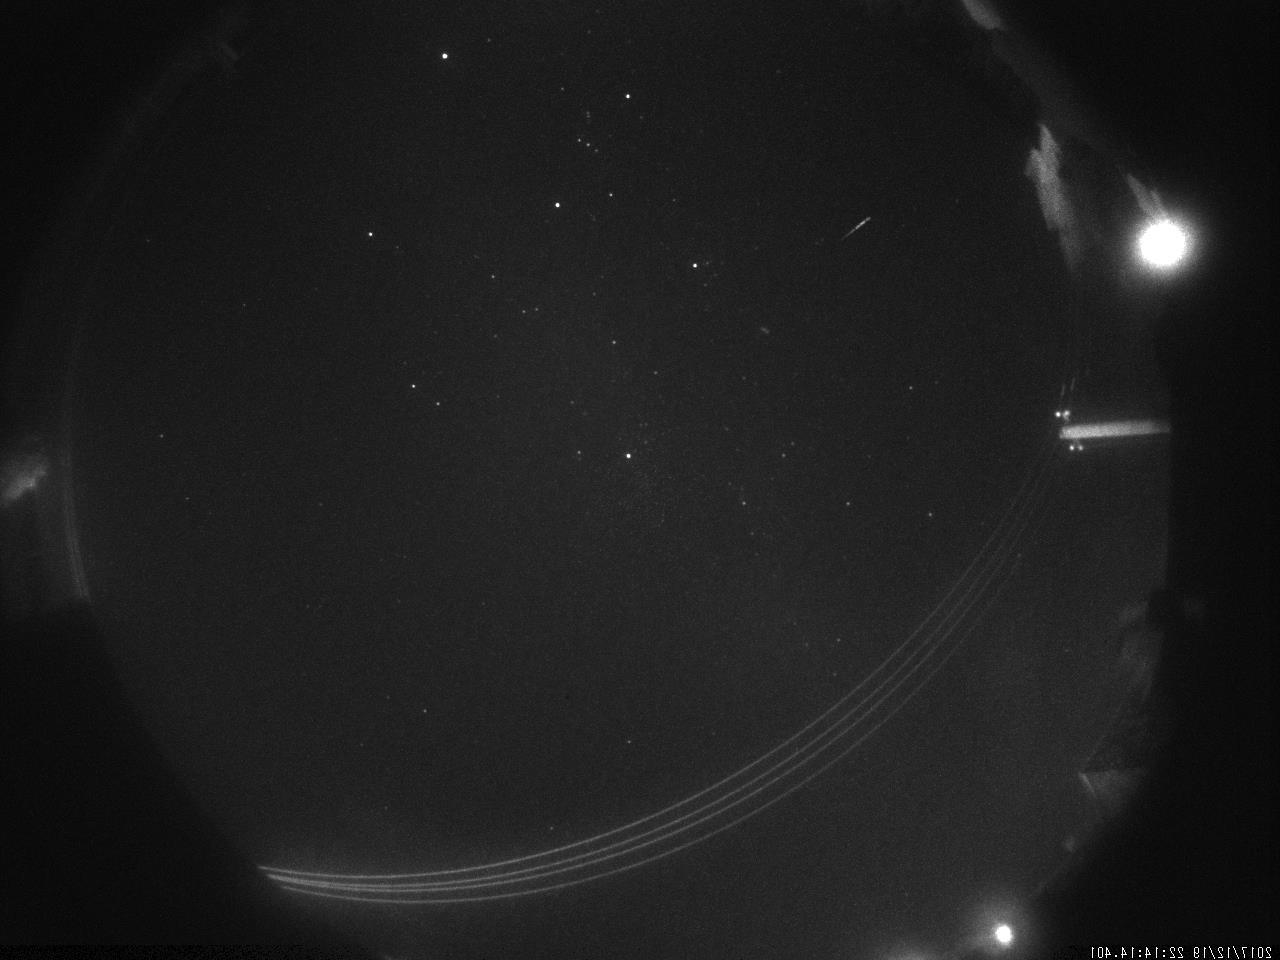meteor: (833, 202, 883, 250)
